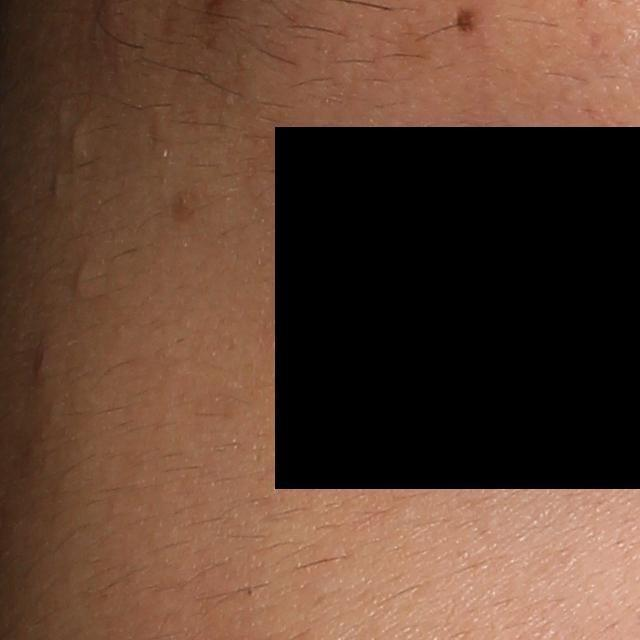comedo: (69, 121, 89, 153), (70, 264, 89, 293)
nevus: (451, 4, 476, 37)
